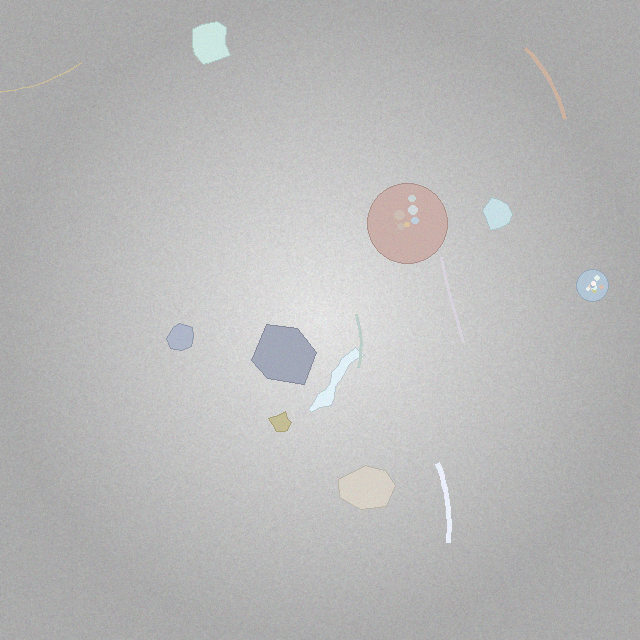fiber: (521, 43, 570, 123), (0, 61, 83, 95), (438, 254, 467, 346), (432, 458, 455, 548), (353, 311, 365, 371)
film: (308, 348, 365, 412)
foam: (368, 184, 448, 264), (576, 269, 609, 302)
fragment: (252, 324, 317, 385), (339, 466, 395, 509), (192, 21, 230, 64), (483, 197, 512, 231), (166, 323, 194, 351), (269, 411, 292, 432)
